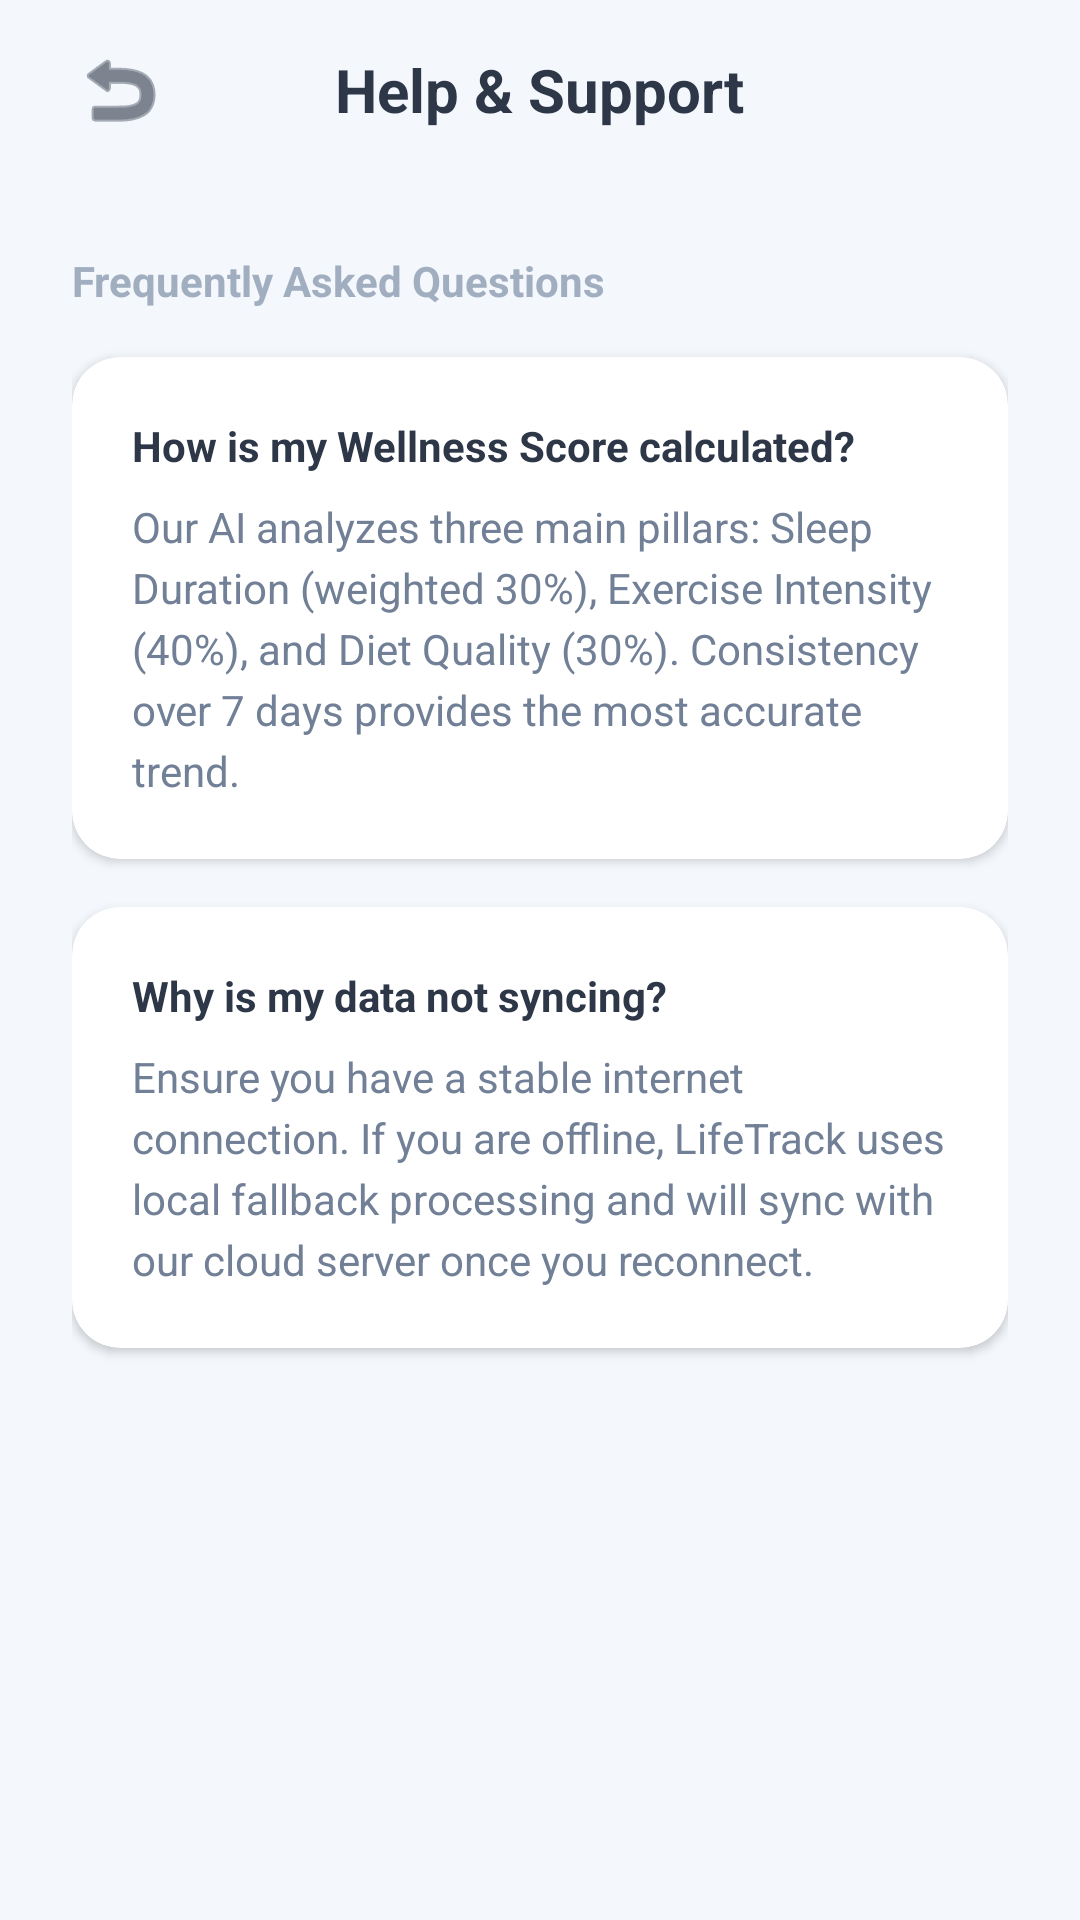

Icons on this 1080px×1920px Android screen, each with the point to tap as point (x, y):
revert: point (121, 90)
